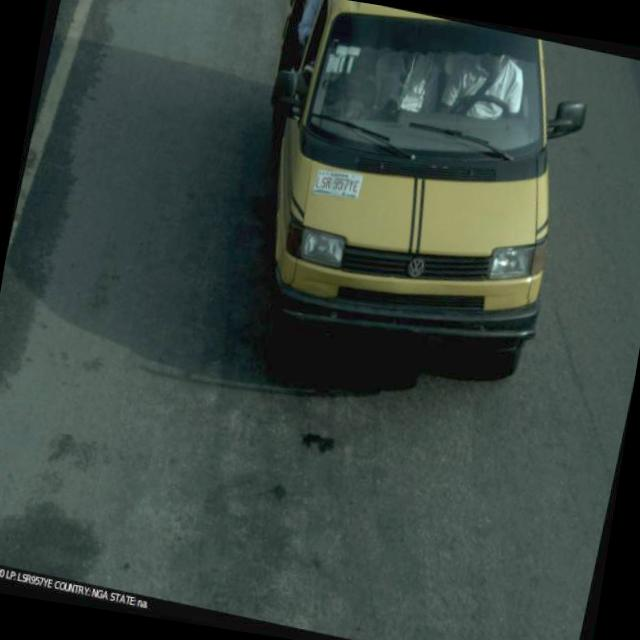person_with_seatbelt: (435, 33, 542, 158)
